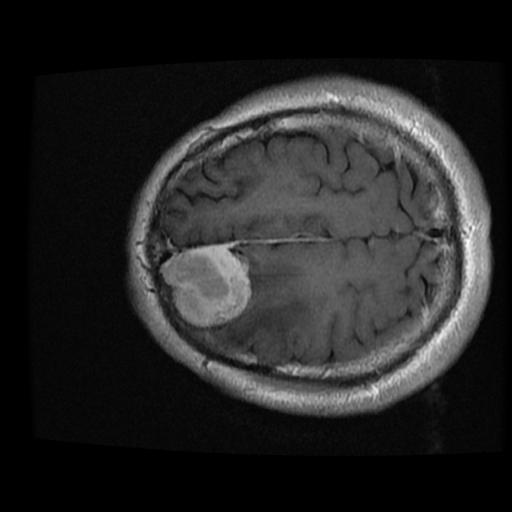meningioma: (158, 241, 250, 328)
